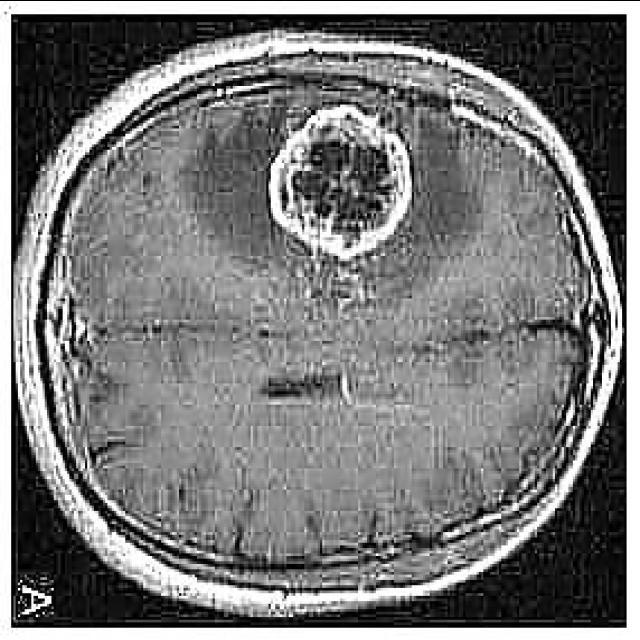tumor: (269, 101, 418, 263)
